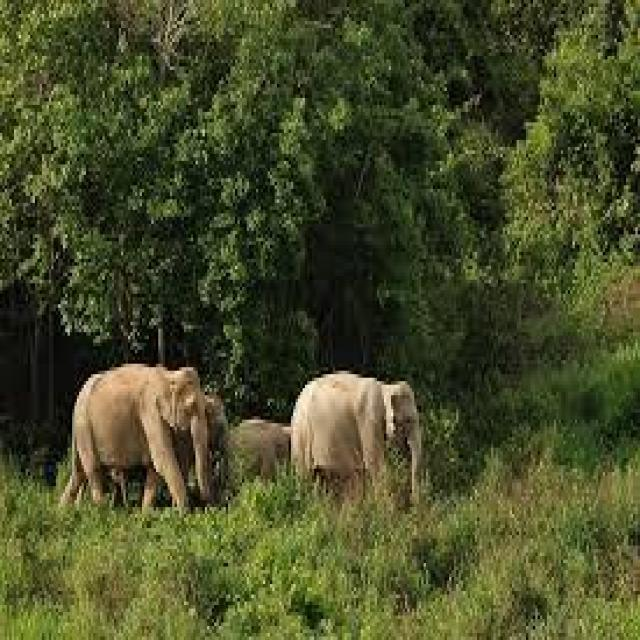Elephant: (65, 360, 214, 504), (286, 364, 428, 514)
